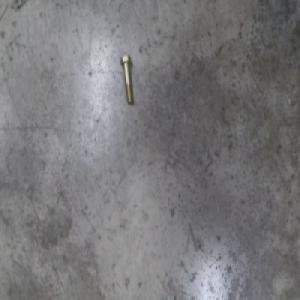Bolt: (121, 52, 135, 102)
